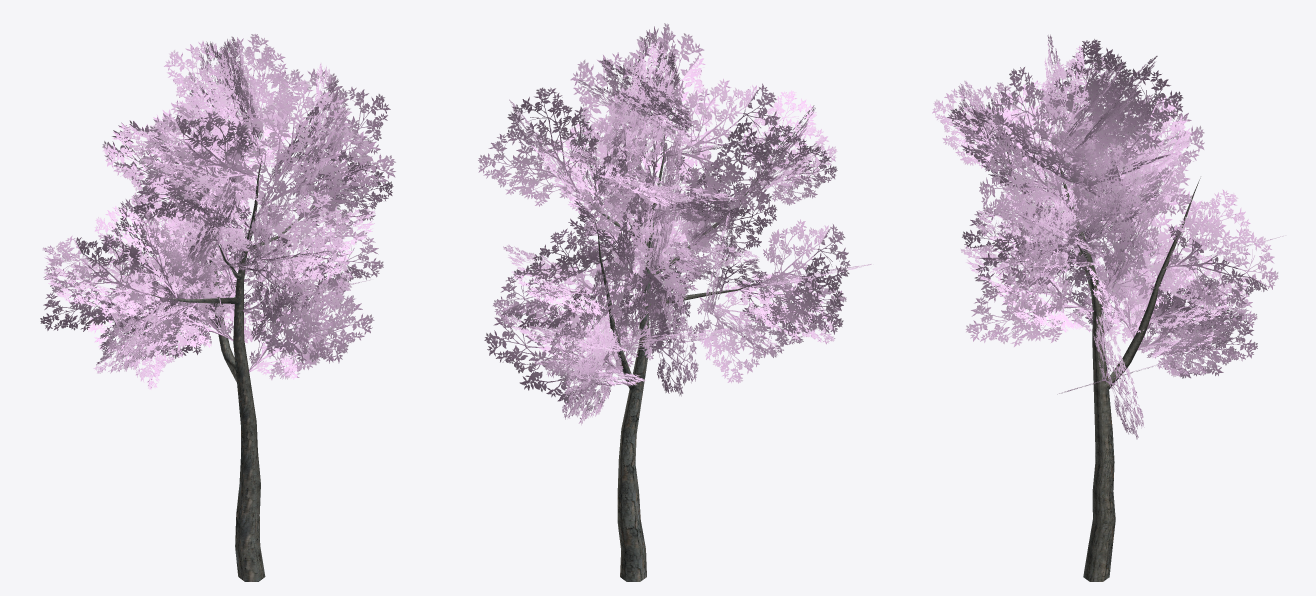
File: SmallTree.fbx
3 views of the same model, side by side, from view 1: azimuth 30°, elevation 25°; view 2: azimuth 150°, elevation 25°; view 3: azimuth 270°, elevation 25° (orthographic). The views are drawn at different scales.
Visible parts, largest first — view 1: Leaves, Bark; view 2: Leaves, Bark; view 3: Leaves, Bark.
Boxes of the visible parts, x1,y1,x2,y2 form: Leaves: (40, 34, 395, 389); Bark: (148, 137, 317, 581); Leaves: (478, 23, 871, 425); Bark: (551, 135, 770, 581); Leaves: (932, 34, 1285, 439); Bark: (1008, 146, 1200, 581).
Size of the model in its own units: 3.3 by 4.69 by 2.98.
2 materials, 2 textured.
